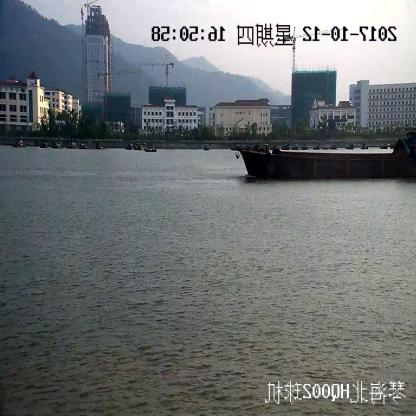Bulk Carrier: (235, 138, 416, 179)
